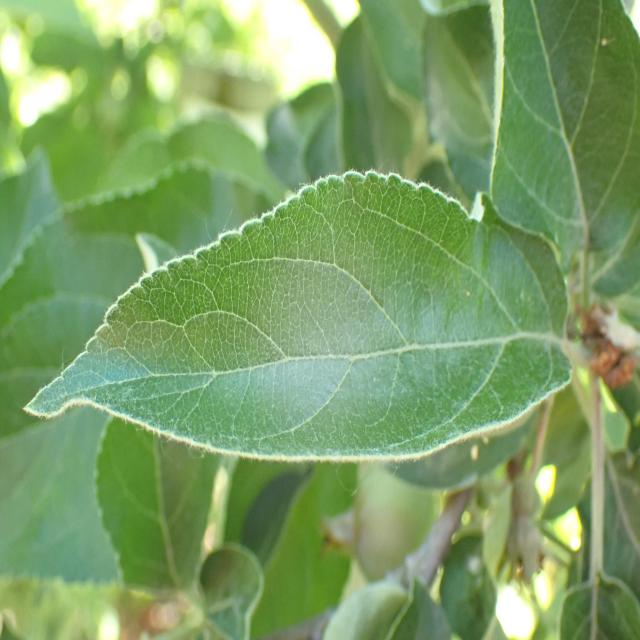healthy: (23, 168, 574, 462), (486, 0, 640, 297)
